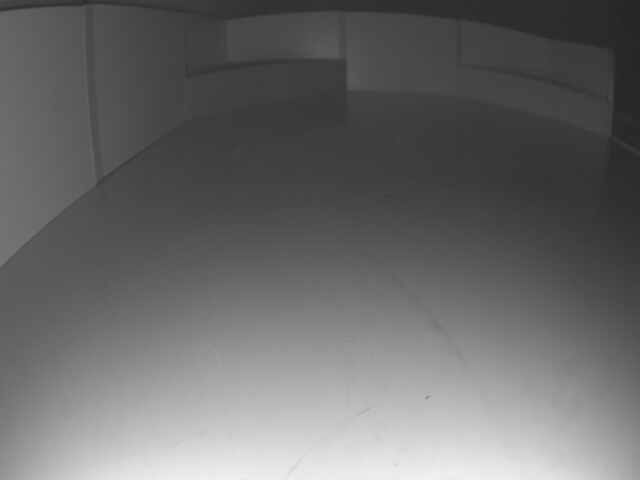Point: (456, 65, 611, 140), (190, 62, 348, 121)
